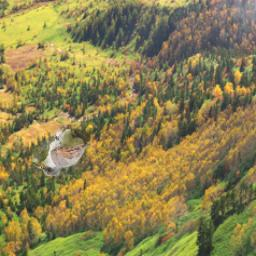Cuckoo: (32, 126, 90, 177)
